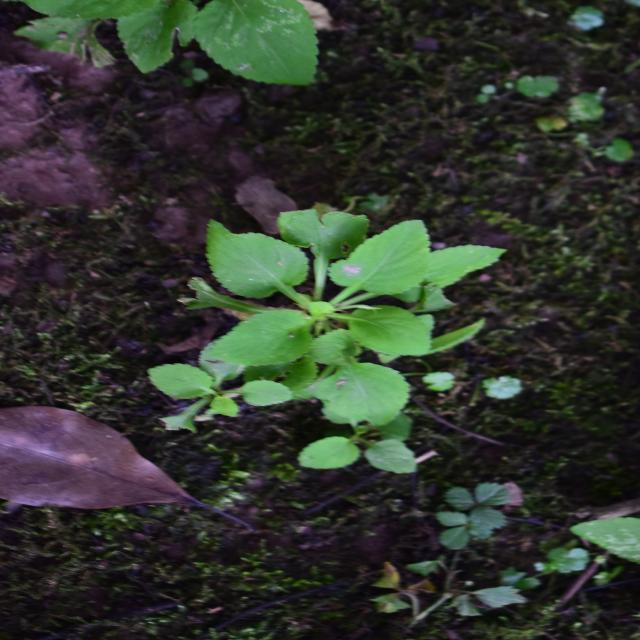Viola: (224, 144, 458, 483)
